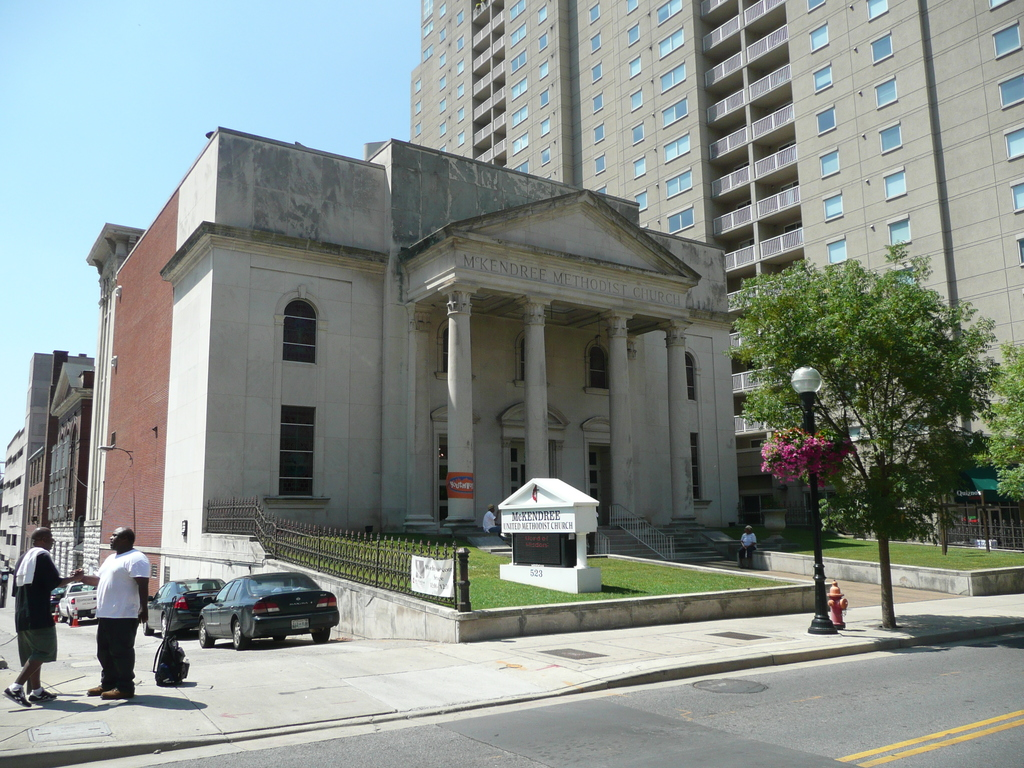Car: (196, 571, 339, 649), (139, 577, 225, 639), (46, 578, 107, 625), (42, 577, 70, 616), (48, 584, 67, 613)
